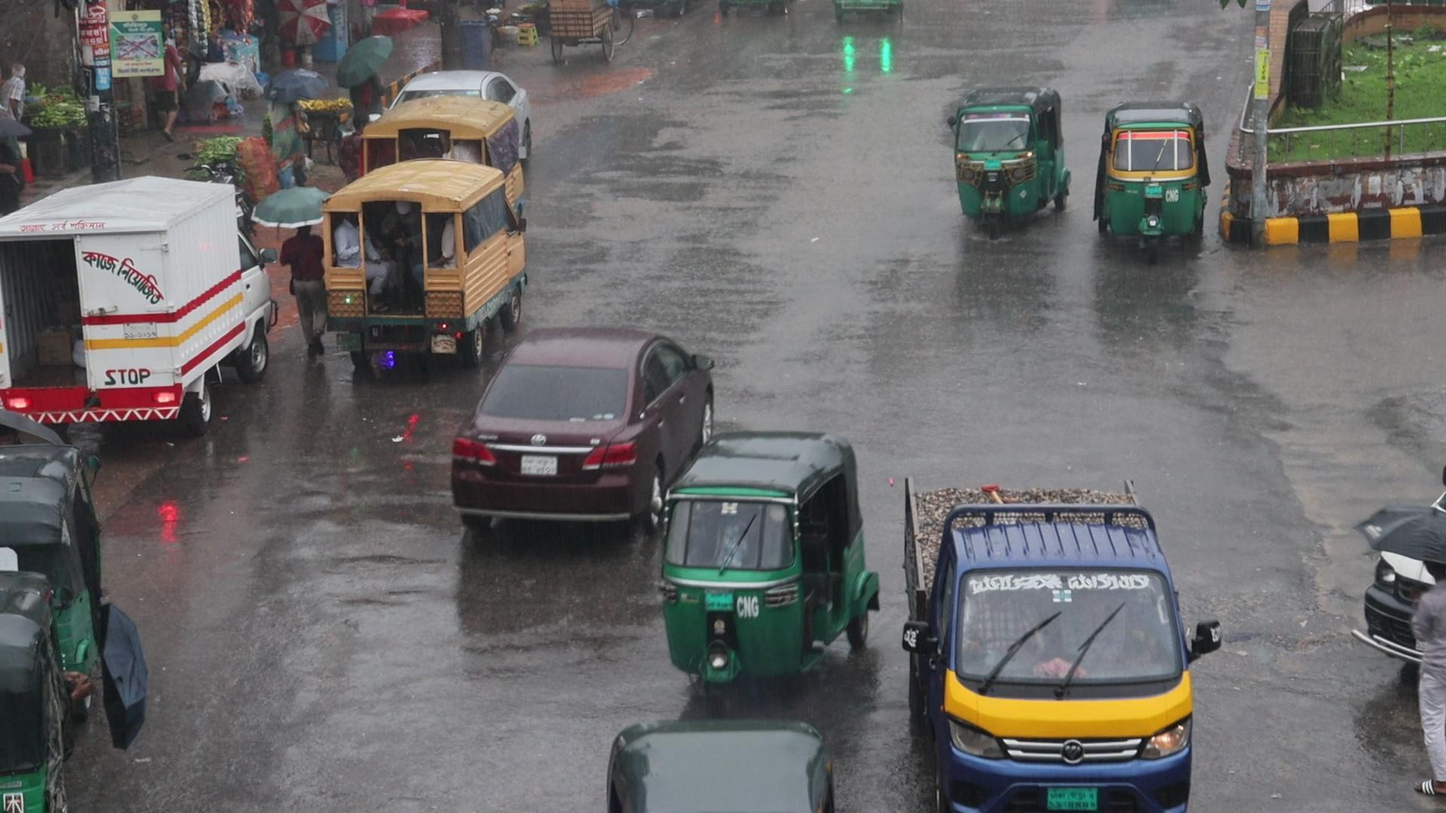Car: (447, 311, 721, 550)
Truck: (904, 477, 1199, 813), (309, 155, 522, 384)
